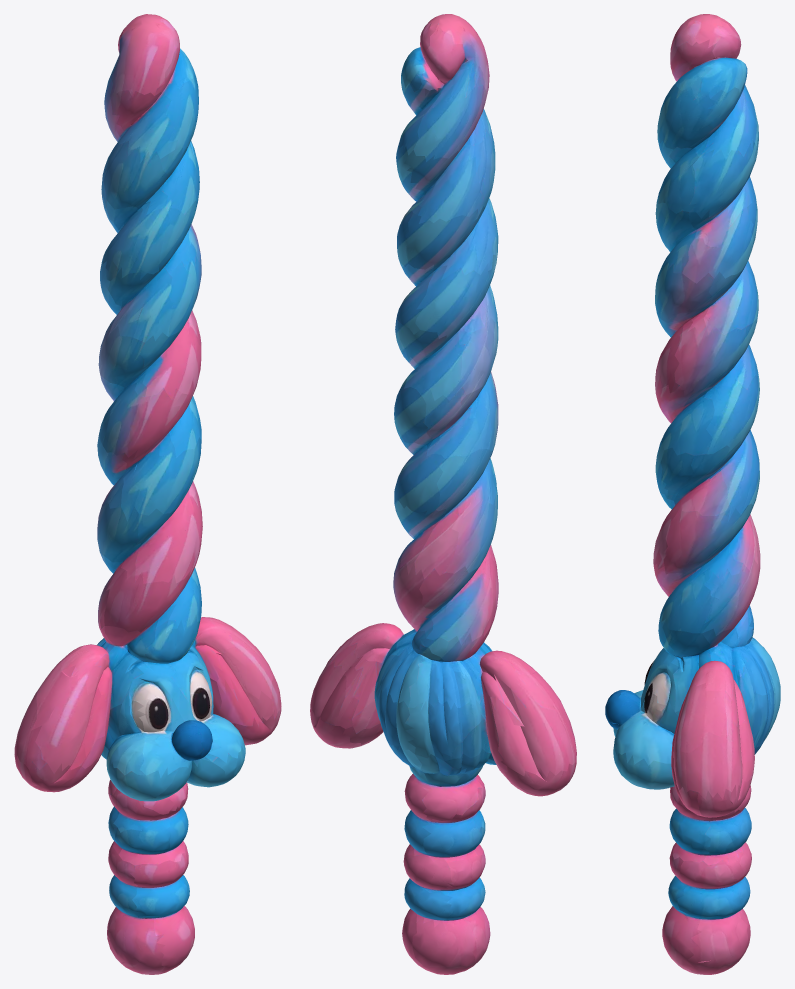
The model's file is balloon_sword.glb.
3 renders of one model, left to right at view 1: azimuth 30°, elevation 25°; view 2: azimuth 150°, elevation 25°; view 3: azimuth 270°, elevation 25°, orthographic.
Visible parts, largest first — view 1: Mesh_0; view 2: Mesh_0; view 3: Mesh_0.
Boxes of the visible parts, x1,y1,x2,y2 form: Mesh_0: [14, 14, 281, 974]; Mesh_0: [310, 14, 576, 974]; Mesh_0: [605, 14, 780, 974].
Bounding box in the file's own units: 0.2818 × 1 × 0.1666.
1 material, 1 textured.
